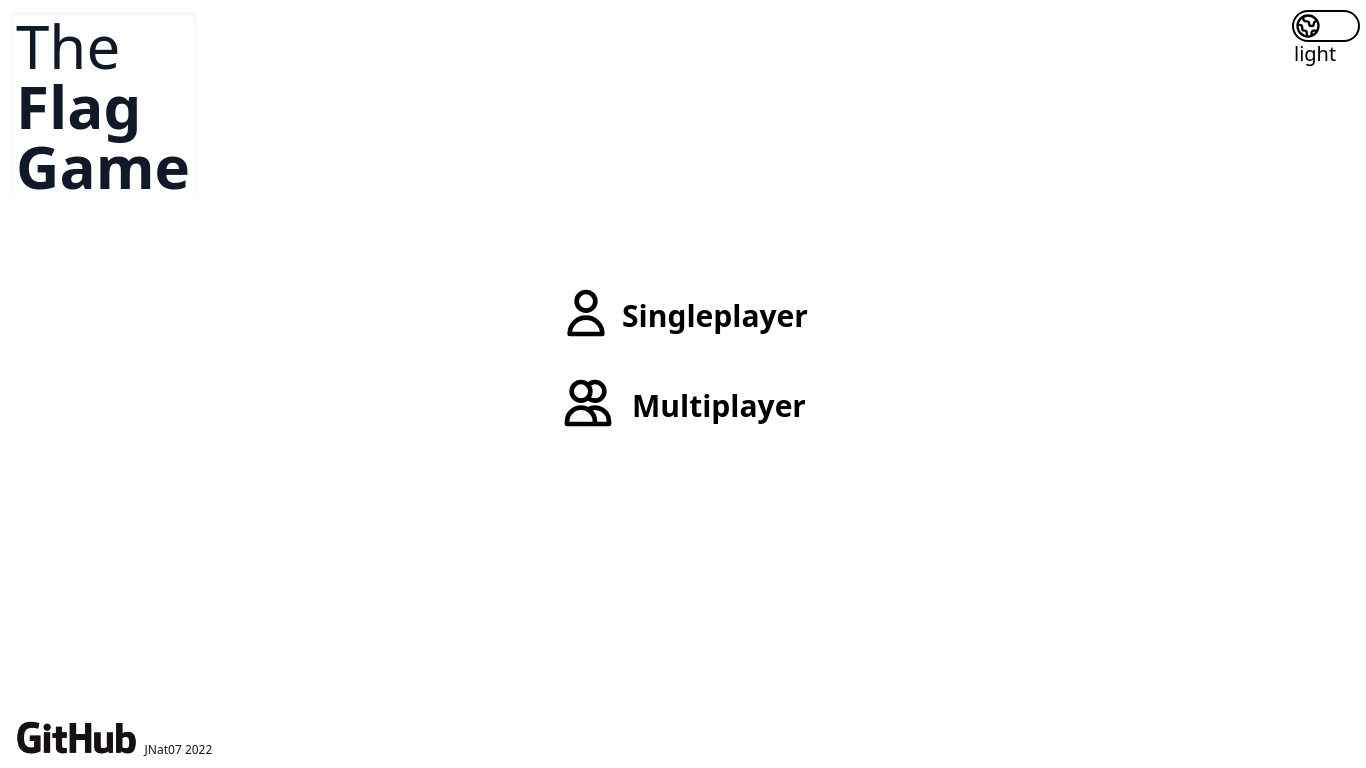
Test case: flag-game › darkmode-checker
This screenshot has width=1366, height=768.
# click and then check
Click the element with id "globe": click(1326, 26) [1294,12,1358,40]
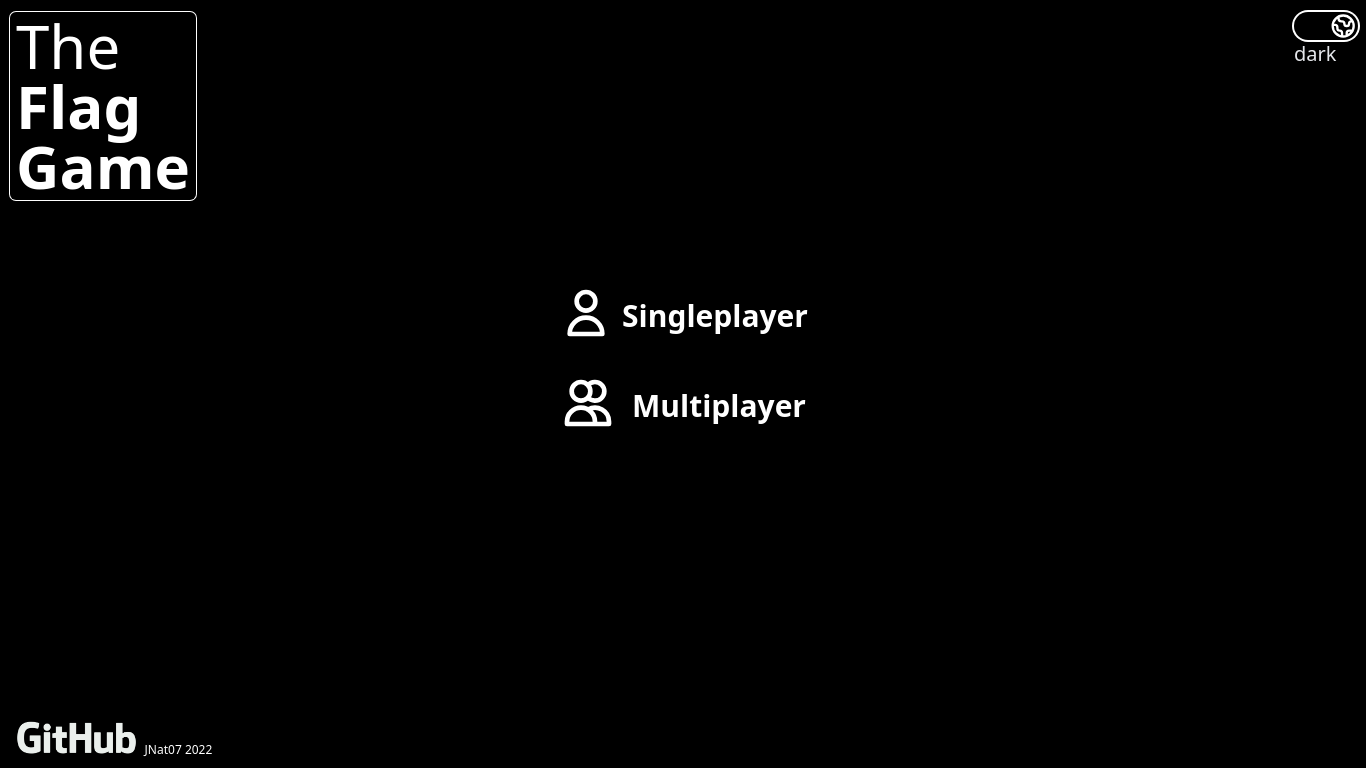
Expected: the text "dark" is shown, [1294,40,1336,67]
Click the element with id "globe": click(1326, 26) [1294,12,1358,40]
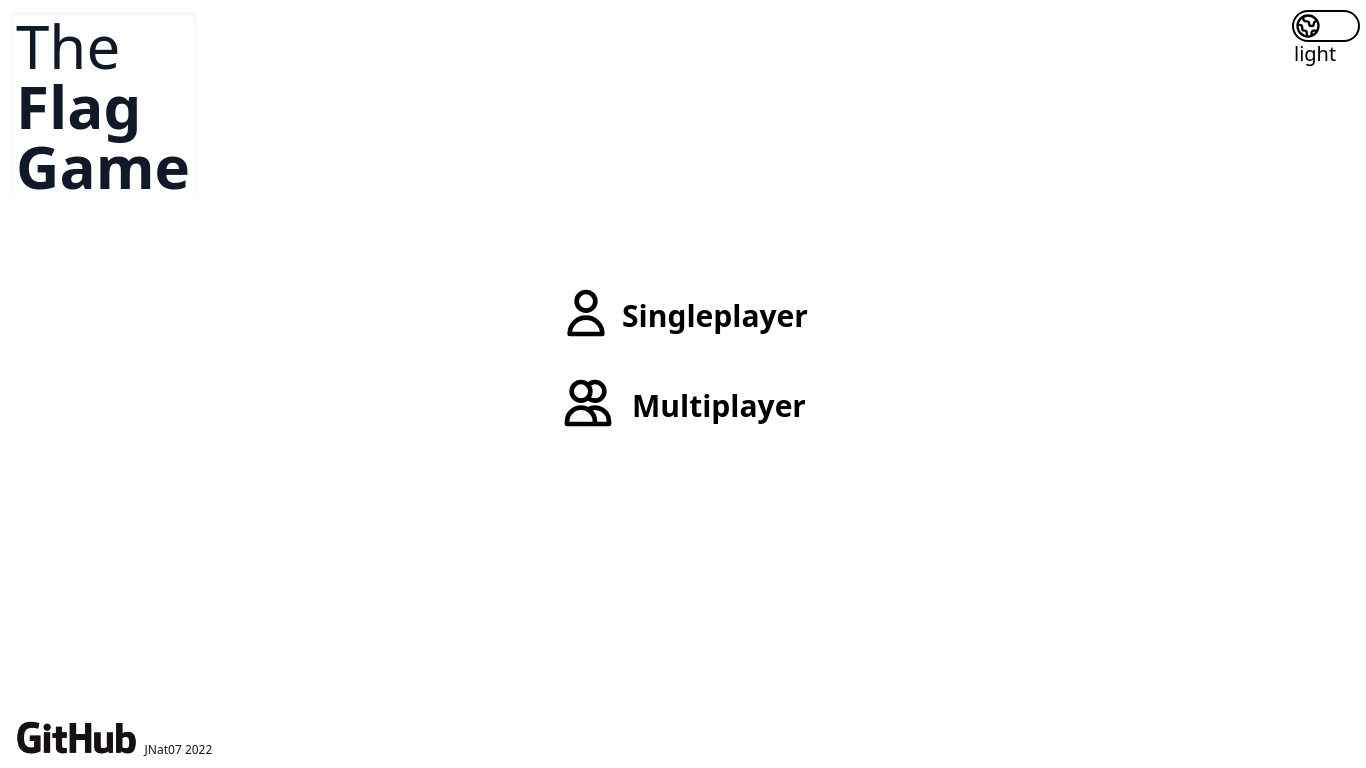
Expected: the text "light" is shown, [1294,40,1336,67]
Click the element with id "globe": click(1326, 26) [1294,12,1358,40]
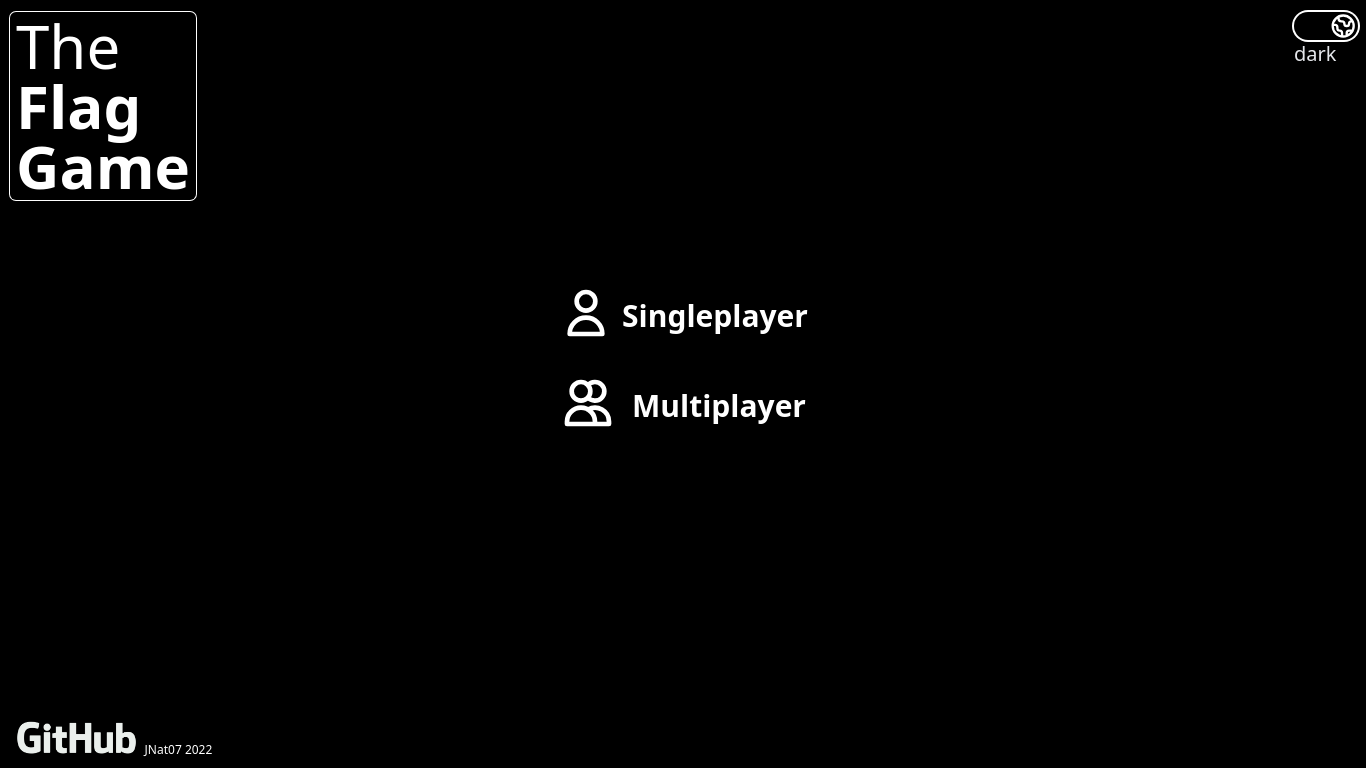
Expected: the text "dark" is shown, [1294,40,1336,67]
